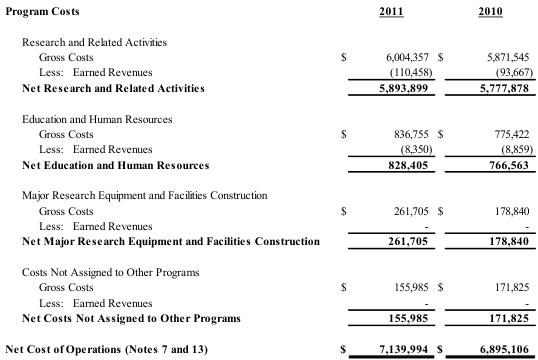table: (4, 3, 531, 354)
table column: (4, 3, 329, 354), (329, 3, 433, 354), (433, 3, 531, 354)
table column header: (4, 3, 531, 25)
table projected row header: (4, 25, 531, 48), (4, 102, 531, 125), (4, 179, 531, 202), (4, 255, 531, 278)
table row: (4, 25, 531, 48), (4, 79, 531, 102), (4, 102, 531, 125), (4, 156, 531, 179), (4, 179, 531, 202), (4, 232, 531, 255), (4, 255, 531, 278), (4, 309, 531, 332), (4, 3, 531, 25), (4, 332, 531, 354), (4, 63, 531, 79), (4, 140, 531, 156), (4, 278, 531, 294), (4, 48, 531, 63), (4, 125, 531, 140), (4, 202, 531, 217), (4, 217, 531, 232), (4, 294, 531, 309)
